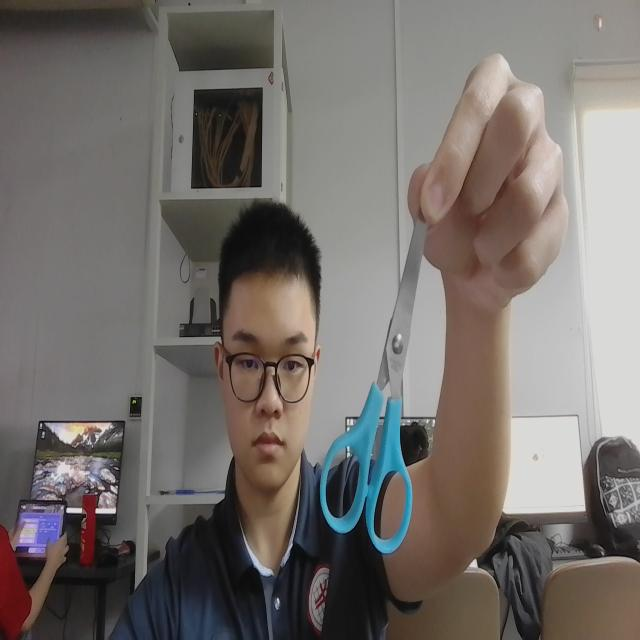scissors: (310, 193, 432, 558)
